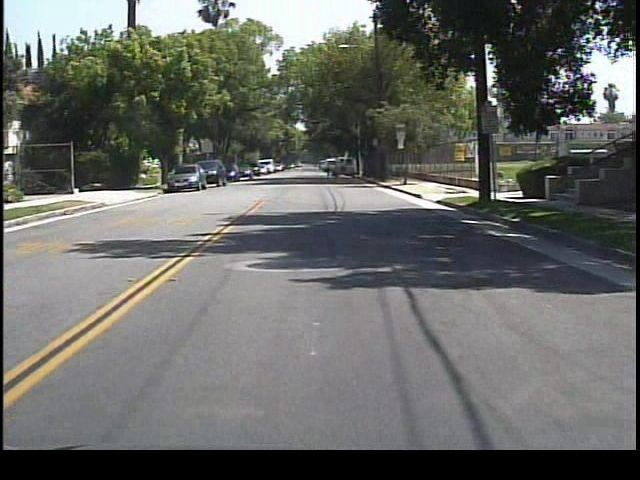person: (320, 158, 336, 184)
